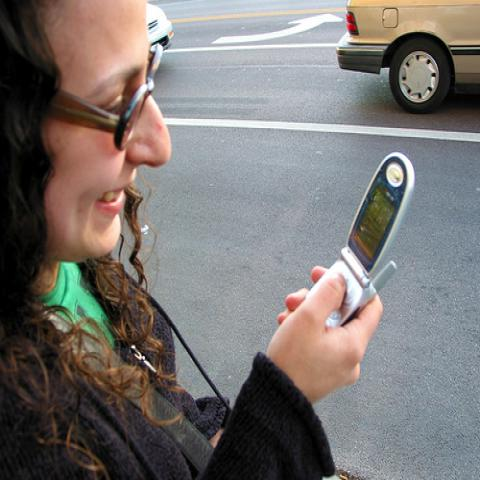car: (334, 1, 479, 116), (146, 3, 174, 52)
